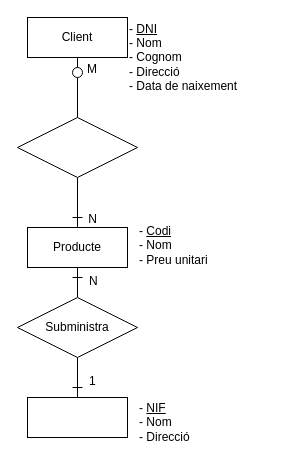
Image size: 295x465. Some labels were removed from this diagram. Each missing label, with the box of its shape:
Compra: (16, 116, 138, 178)
Proveïdor: (26, 396, 128, 438)
